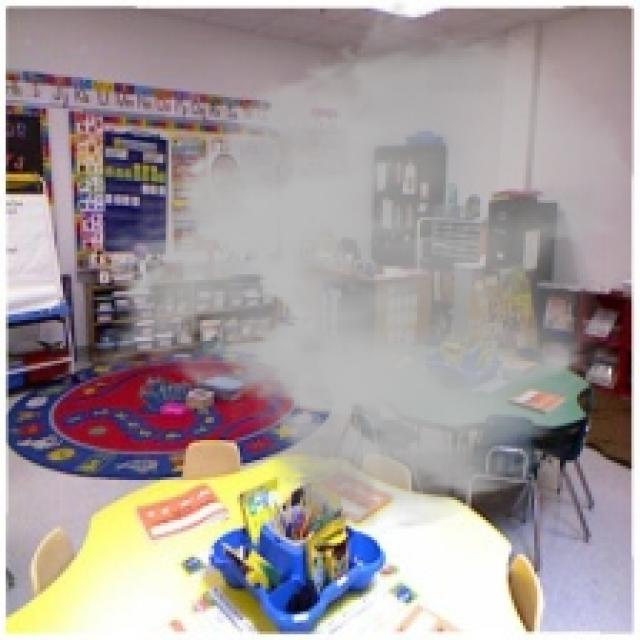smoke: (85, 0, 638, 535)
